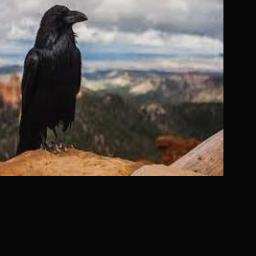Crow: (16, 4, 88, 155)
